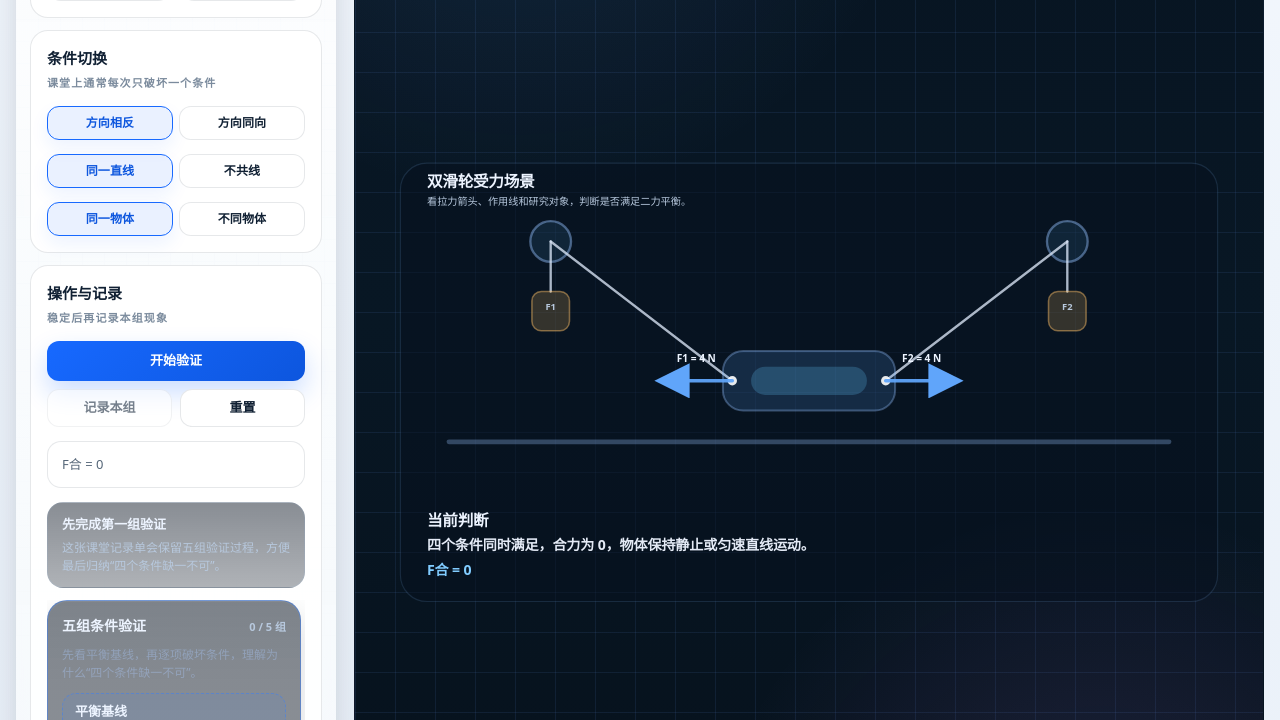
Test: TwoForceBalanceLab › only unlocks recording after the observation settles
(page scrolled)
Click the button "开始验证" at (176, 361), box [47, 341, 305, 381]
Wait 1200 ms
(page scrolled)
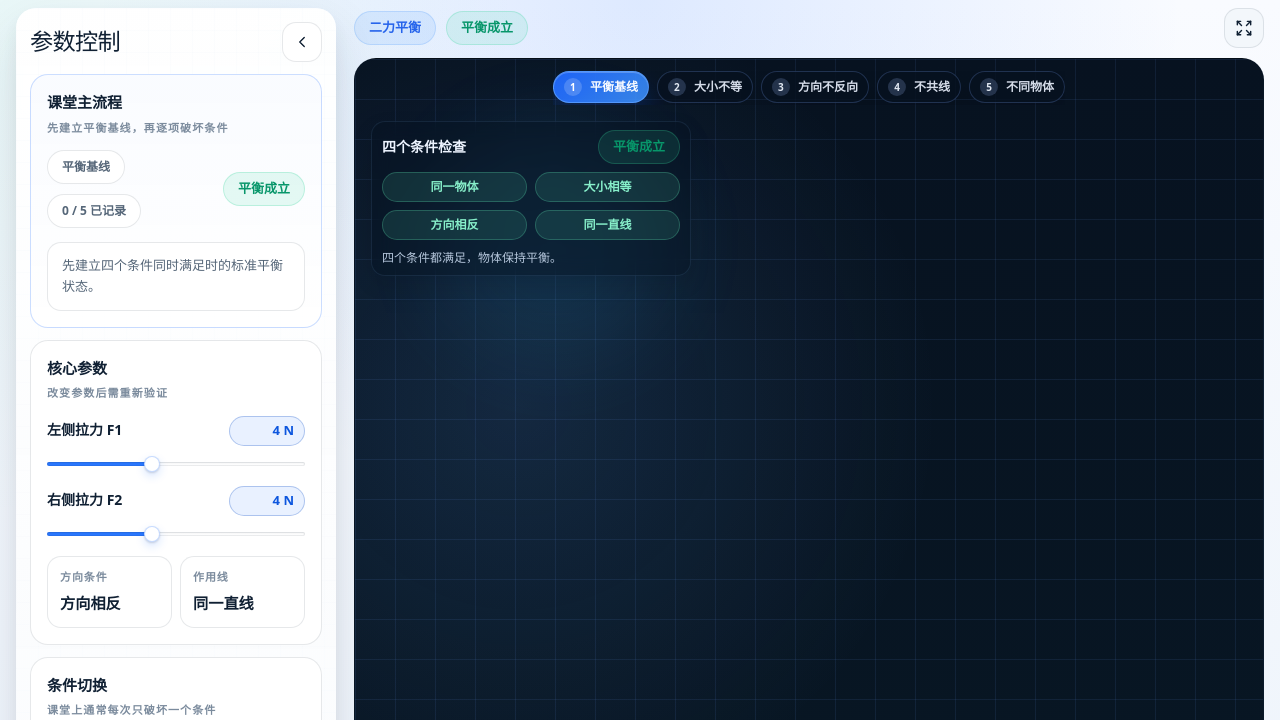
Expected: the text "平衡成立" next to "0 / 5 已记录" is shown, [238, 179, 290, 197]
